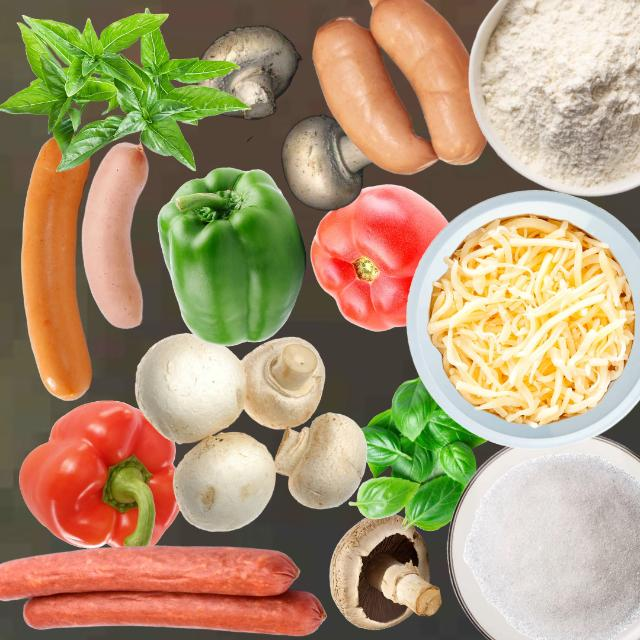Flour: (479, 0, 639, 188)
Sugar: (462, 452, 639, 638)
